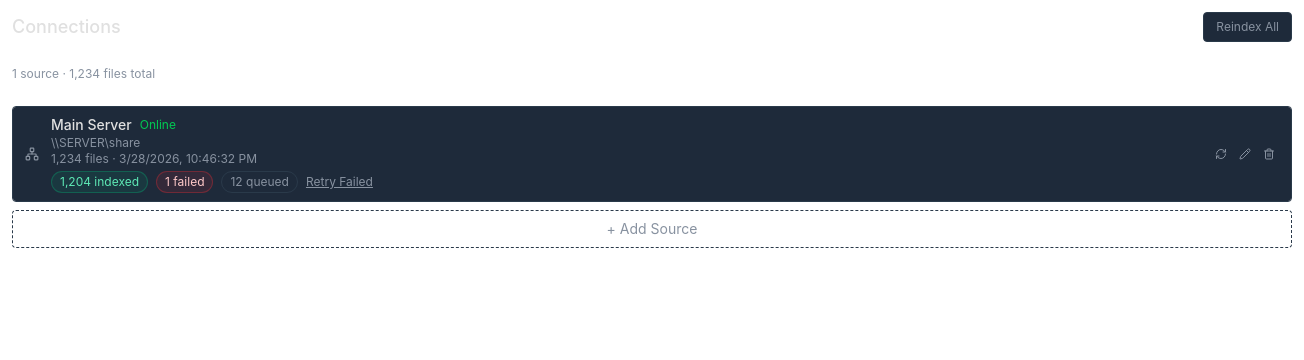
Test: Connections page › expands failed file details for a source
Click the button "1 failed": (185, 182) top-left (156, 171), bottom-right (214, 193)
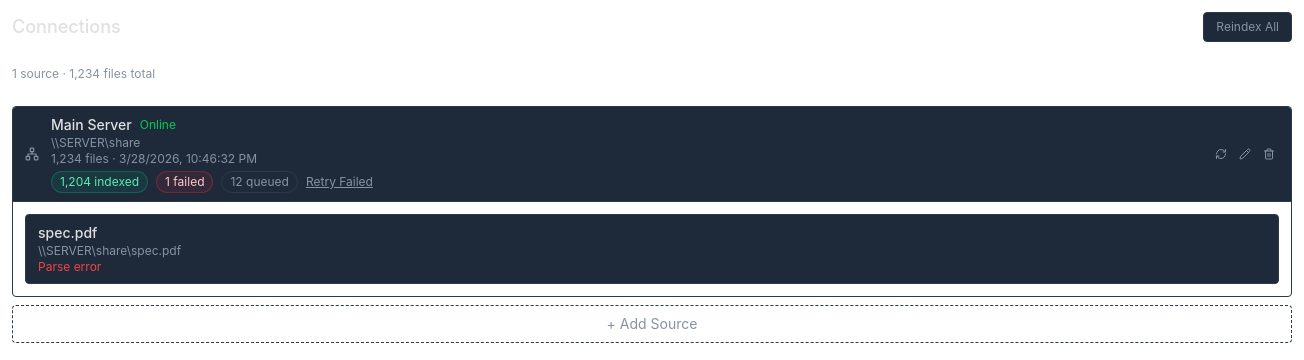
Check: the text "spec.pdf" is shown, box top-left (38, 224), bottom-right (97, 241)
Check: the text "Parse error" is shown, box top-left (38, 259), bottom-right (101, 274)
